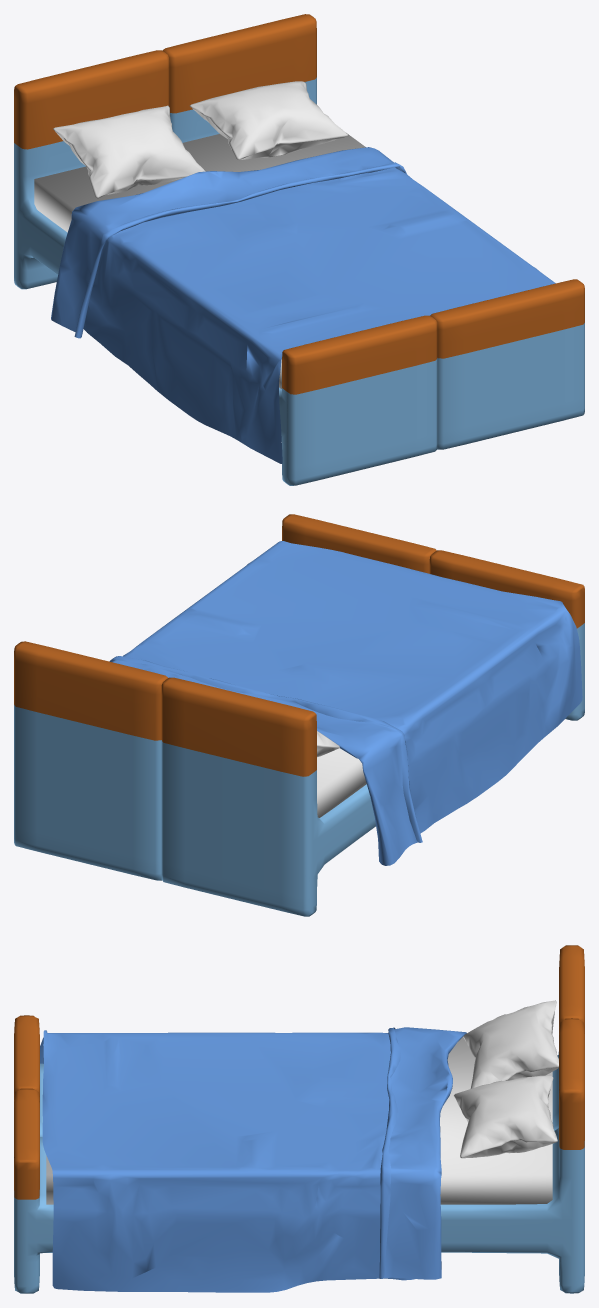
Rendered from bed2.fbx.
3 renders of one model, top to bottom at view 1: azimuth 30°, elevation 25°; view 2: azimuth 150°, elevation 25°; view 3: azimuth 270°, elevation 25°, orthographic.
Parts seen in each view (by area): view 1: Bed.003, Bed.002, Bed.001, Bed, Bed.004; view 2: Bed.003, Bed.002, Bed.001, Bed.004; view 3: Bed.003, Bed.002, Bed, Bed.001, Bed.004.
Boxes of the visible parts, <box> form: Bed.003: <box>51,147,555,463</box>; Bed.002: <box>14,77,584,485</box>; Bed.001: <box>14,14,584,394</box>; Bed: <box>53,81,348,198</box>; Bed.004: <box>34,133,365,388</box>; Bed.003: <box>109,541,582,865</box>; Bed.002: <box>14,623,584,916</box>; Bed.001: <box>14,514,584,776</box>; Bed.004: <box>317,748,366,817</box>; Bed.003: <box>40,1027,466,1292</box>; Bed.002: <box>14,1052,584,1293</box>; Bed: <box>453,1000,558,1158</box>; Bed.001: <box>14,945,584,1199</box>; Bed.004: <box>46,1036,552,1204</box>.
Bounding box in the file's own units: 460 × 260 × 660.
